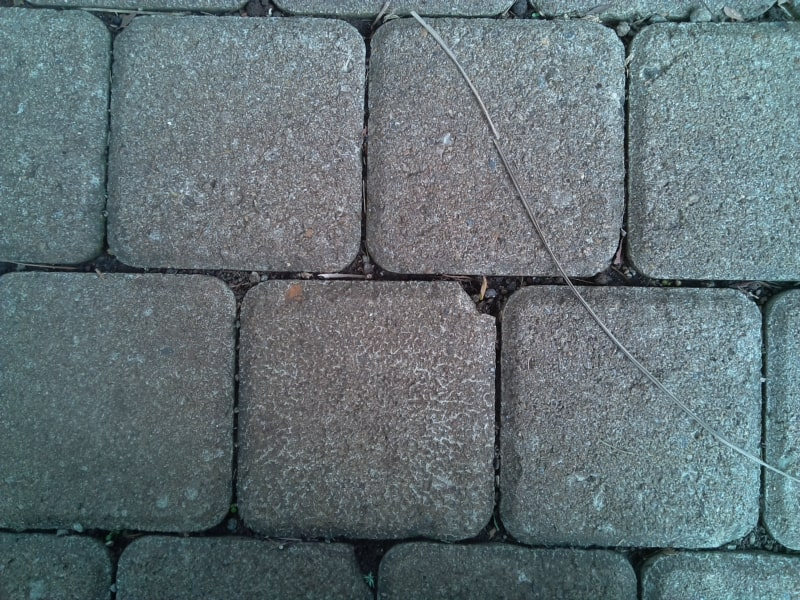Weed: (224, 503, 246, 537), (362, 571, 384, 592)
